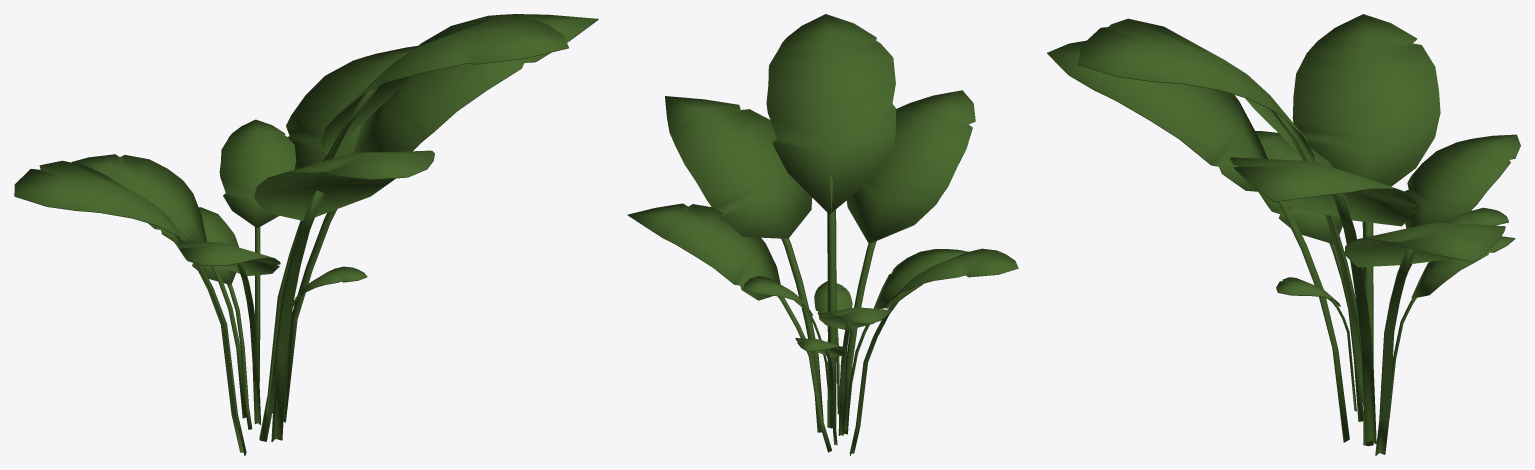
The model's file is Palm_L.fbx.
3 renders of one model, left to right at view 1: azimuth 30°, elevation 25°; view 2: azimuth 150°, elevation 25°; view 3: azimuth 270°, elevation 25°, orthographic. The views are drawn at different scales.
Parts seen in each view (by area): view 1: leaf; view 2: leaf; view 3: leaf.
Part boxes in pixels (bbox=[...]): leaf: bbox=[14, 14, 598, 455]; leaf: bbox=[627, 14, 1018, 455]; leaf: bbox=[1047, 14, 1520, 455].
Size of the model in its own units: 612 by 508 by 463.
